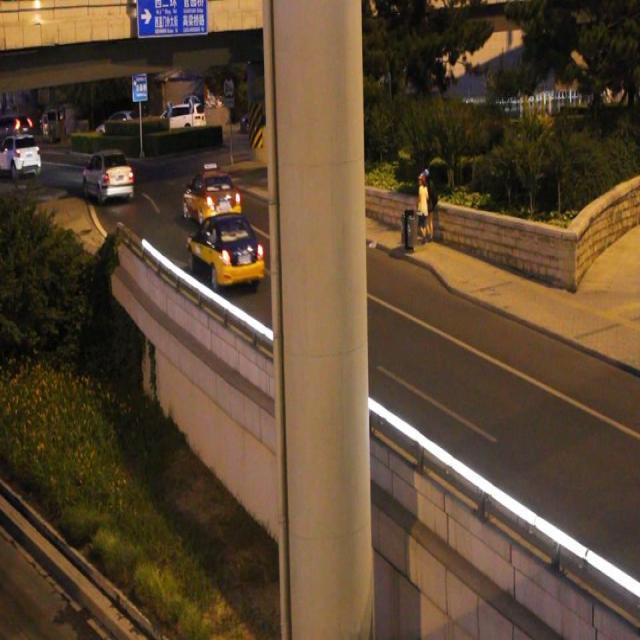car: (186, 207, 264, 287), (184, 163, 240, 226)
